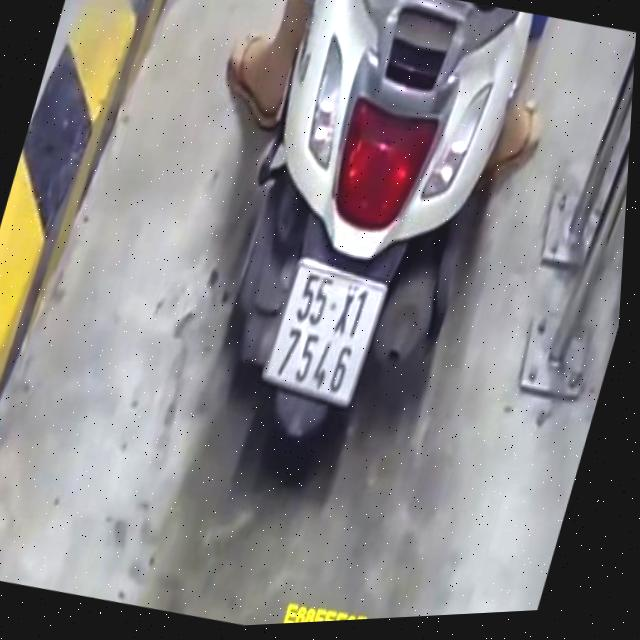motorcycle: (167, 0, 544, 512)
plate: (250, 243, 396, 418)
